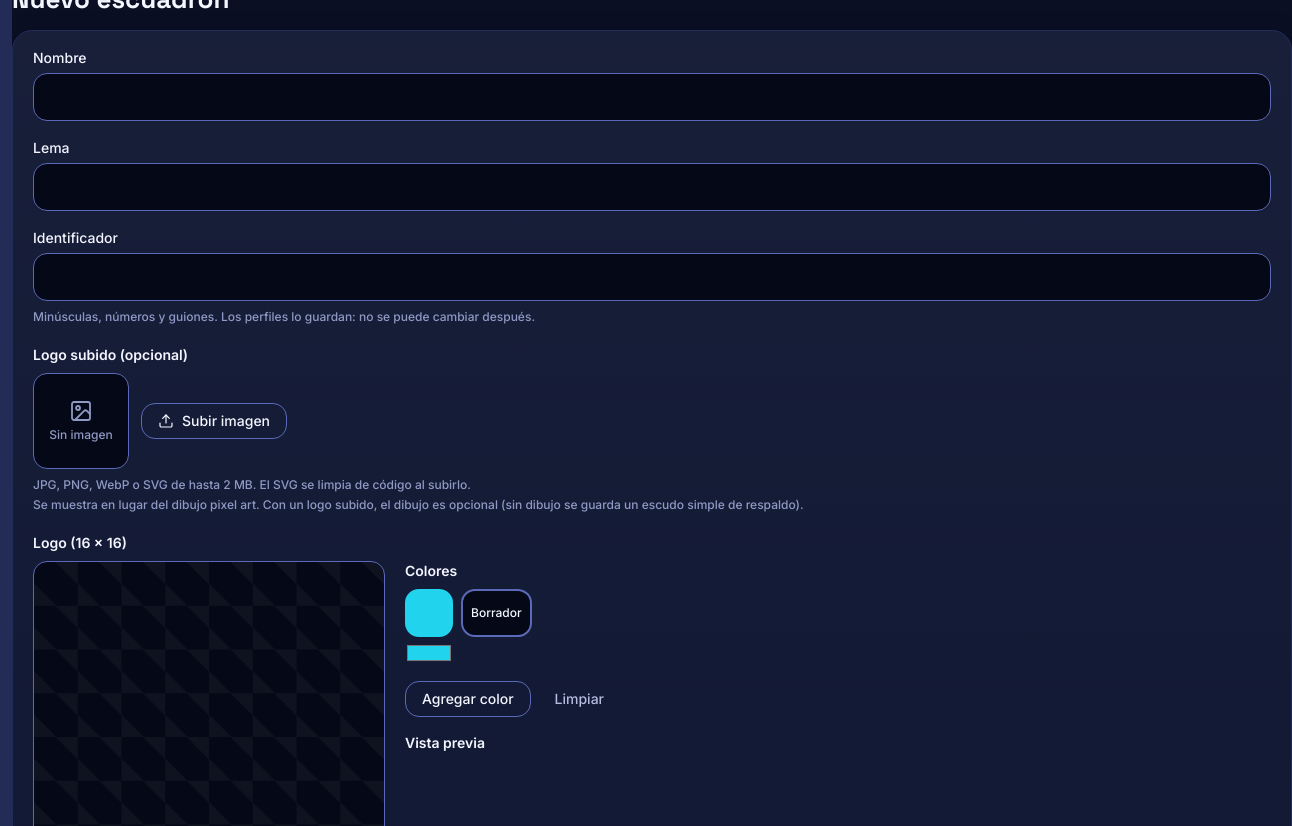
SquadForm create › shows the server's reason and stays on the form
Type "Escuadrón Gemini" into the field labelled "Nombre" at (652, 97), box [33,73,1271,121]
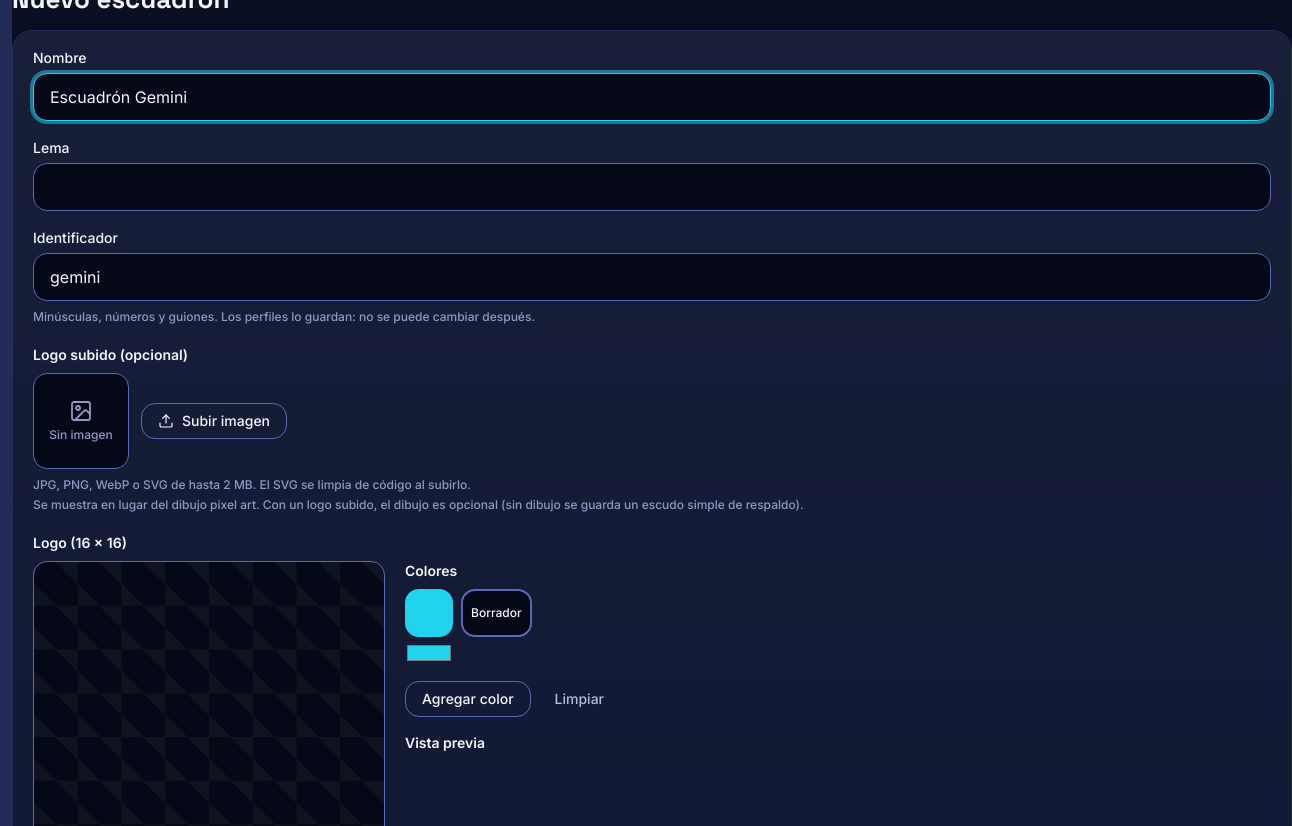
Type "Otro lema" into the field labelled "Lema" at (652, 187), box [33,163,1271,211]
(page scrolled)
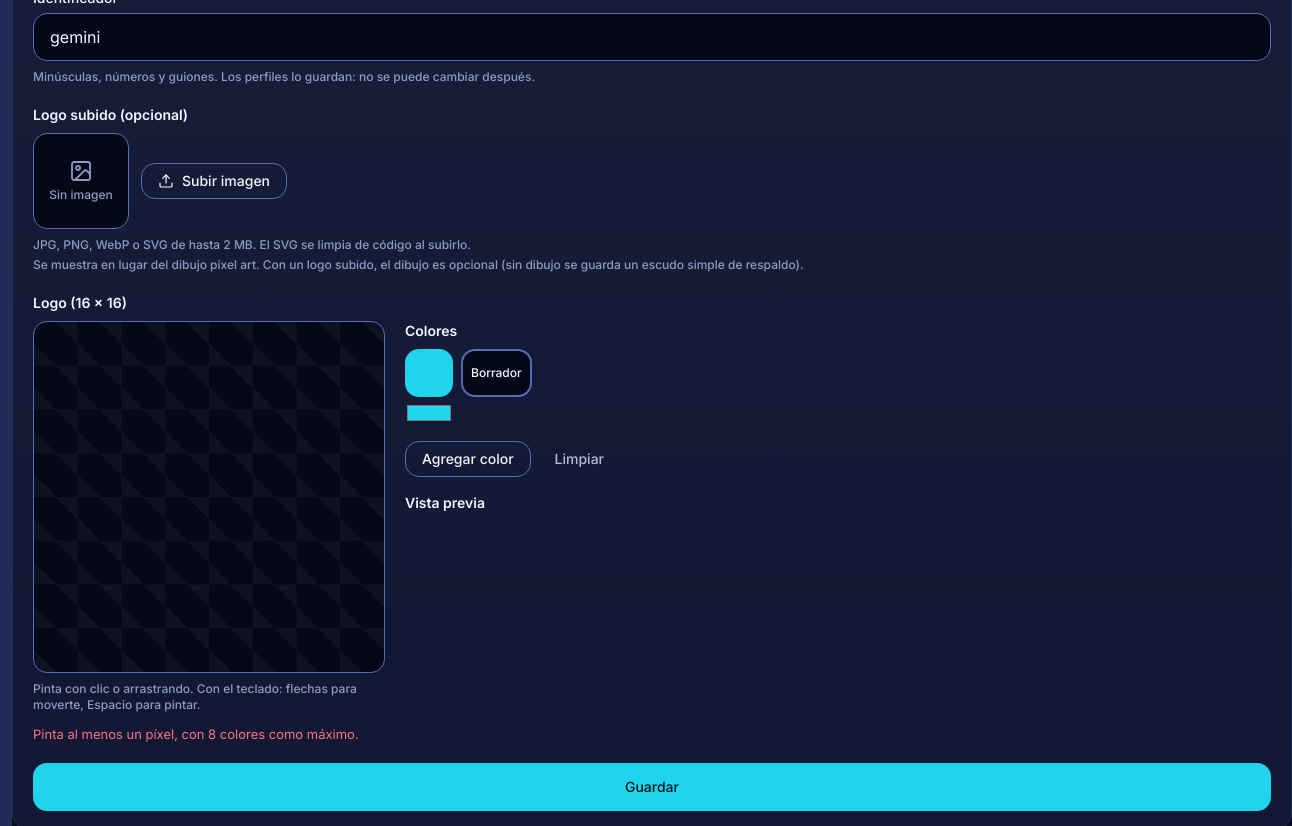
Press the mouse on the table at (209, 497), box [33,321,385,673]
(page scrolled)
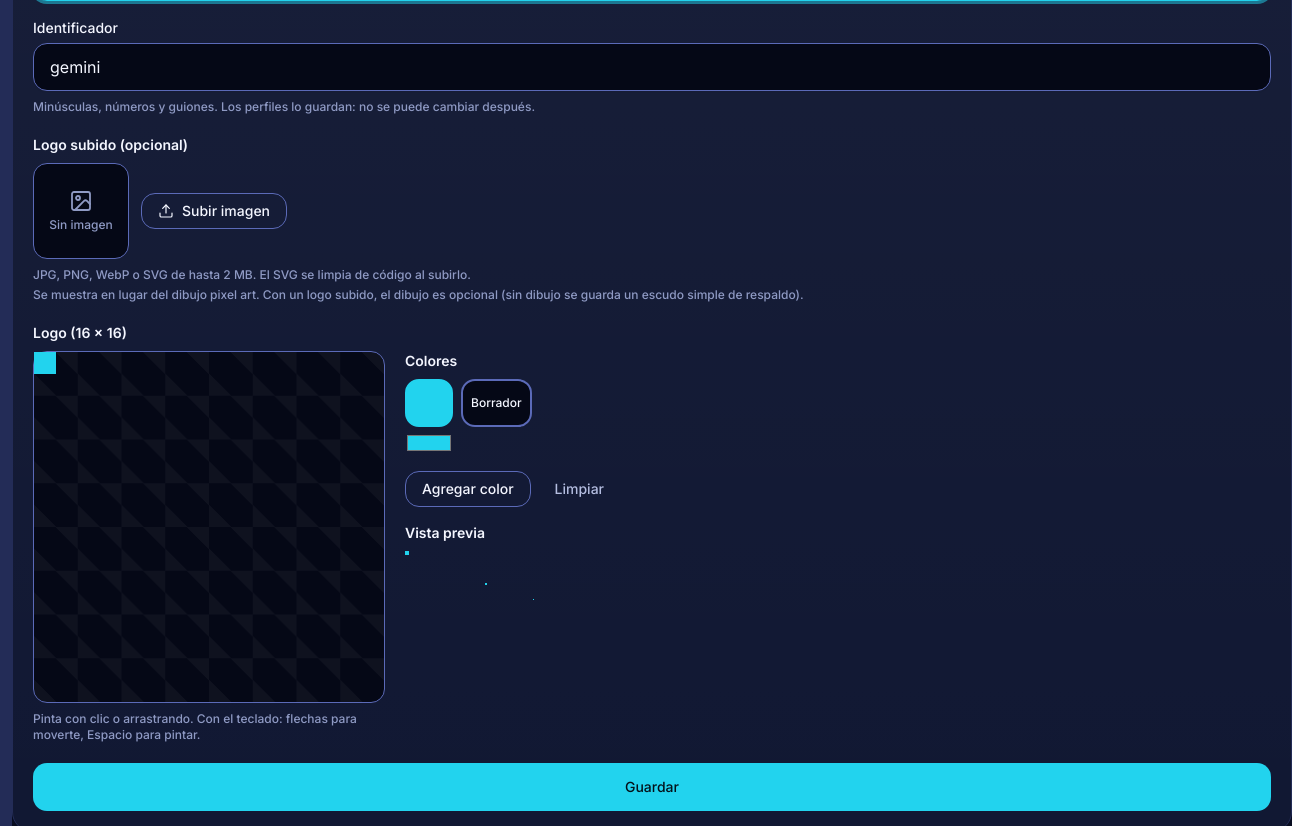
Click the button "Guardar" at (652, 787), box [33,763,1271,811]
(page scrolled)
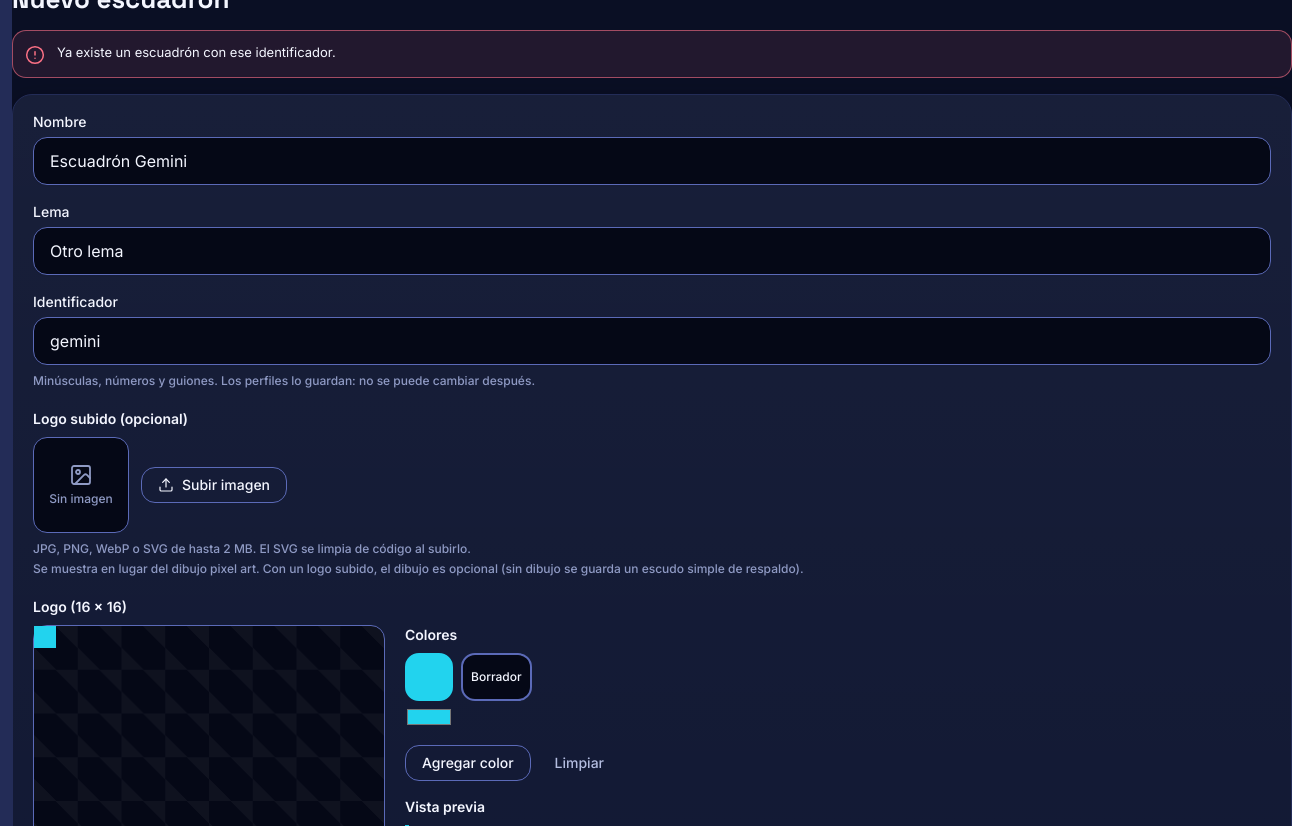
Check: the text "Ya existe un escuadrón con ese identificador." is shown, box [57,43,336,61]
